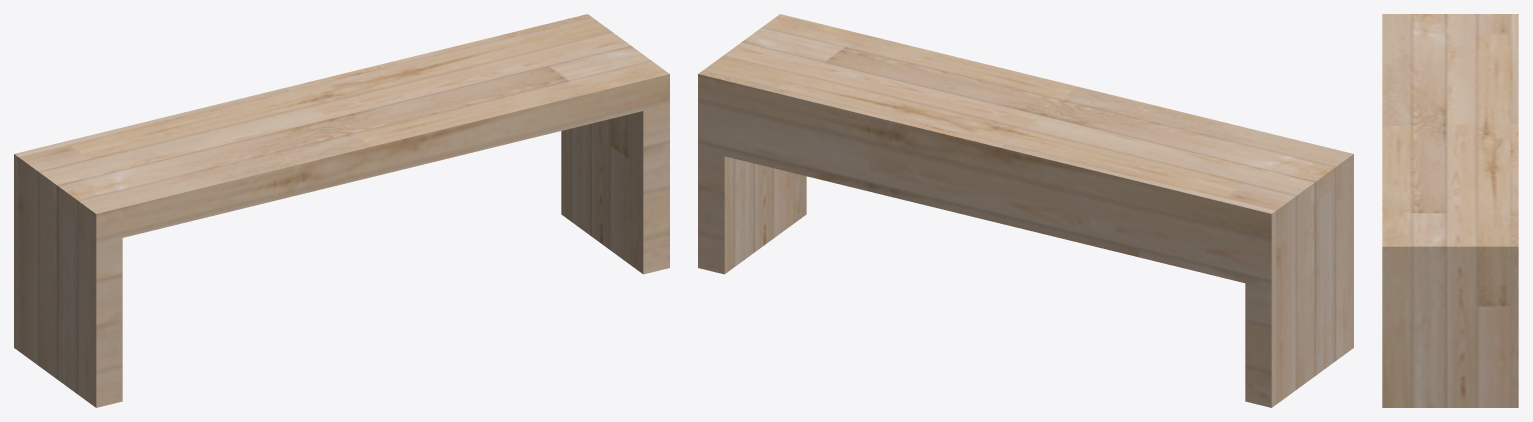
Rendered from window_table.fbx.
3 views of the same model, side by side, from view 1: azimuth 30°, elevation 25°; view 2: azimuth 150°, elevation 25°; view 3: azimuth 270°, elevation 25° (orthographic). The views are drawn at different scales.
Parts seen in each view (by area): view 1: pCube1; view 2: pCube1; view 3: pCube1.
Part boxes in pixels (x1,y1,x2,y2): pCube1: (14,14,669,407); pCube1: (698,14,1353,407); pCube1: (1382,14,1518,407).
Size of the model in its own units: 1.8 by 0.5832 by 0.447.
Materials: 1 (1 with a texture image).
